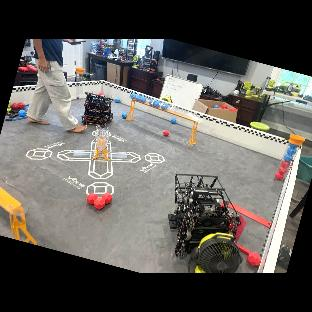V5_BLUE: (170, 116, 178, 126), (121, 111, 129, 120), (114, 96, 121, 103), (213, 104, 219, 109)
V5_RED: (244, 250, 263, 268), (83, 189, 98, 206), (99, 191, 115, 206), (92, 196, 107, 211), (161, 128, 171, 139), (17, 101, 27, 110), (10, 102, 20, 110), (98, 91, 105, 97), (221, 103, 227, 110), (218, 106, 223, 110)
blueingoal: (161, 102, 168, 110), (154, 100, 160, 108), (135, 95, 141, 102), (141, 96, 147, 102), (130, 95, 137, 99), (150, 99, 154, 106)
blueinloader: (283, 153, 293, 162), (288, 142, 299, 150), (287, 147, 297, 155)
redloader: (277, 165, 290, 175), (280, 159, 291, 169), (273, 171, 284, 181)
